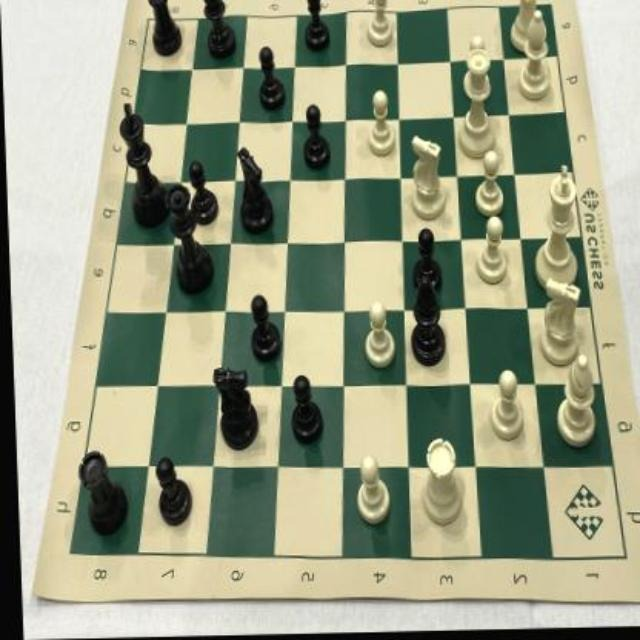black-bishop: (402, 275, 448, 371), (201, 0, 237, 63)
black-king: (115, 100, 167, 230)
black-knight: (210, 362, 257, 454), (233, 144, 274, 240)
black-pawn: (151, 454, 194, 530), (244, 290, 284, 368), (286, 371, 320, 447), (297, 100, 330, 175), (409, 229, 441, 299), (188, 160, 218, 232), (256, 46, 286, 118), (298, 0, 331, 56)
black-queen: (163, 185, 212, 306)
black-rook: (74, 446, 129, 538), (142, 0, 183, 60)
white-bishop: (549, 356, 597, 451), (514, 12, 554, 105)
white-king: (529, 166, 581, 296)
white-knight: (532, 280, 584, 370), (404, 136, 445, 223)
white-pawn: (351, 454, 392, 534), (483, 370, 523, 446), (471, 214, 509, 290), (359, 299, 392, 374), (362, 87, 395, 160), (469, 151, 502, 223), (459, 36, 491, 102), (363, 0, 398, 53)
white-queen: (451, 51, 499, 163)
white-rook: (416, 435, 462, 531), (507, 0, 543, 56)
